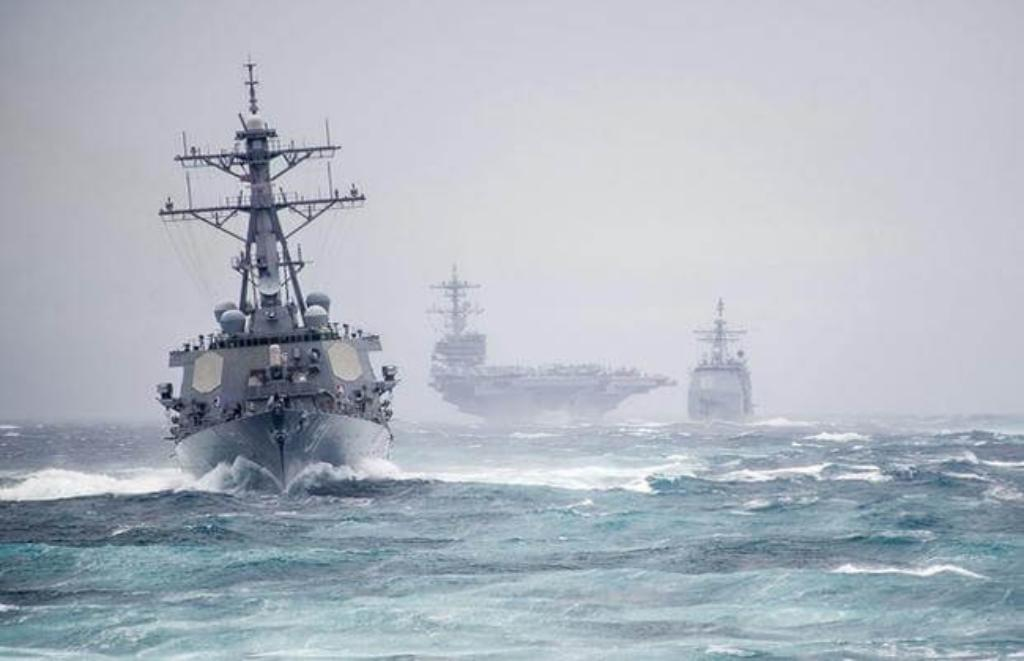Warship: (140, 96, 412, 496), (416, 264, 670, 444), (676, 278, 760, 434)
